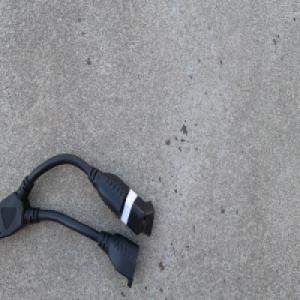Wire: (0, 150, 155, 288)
